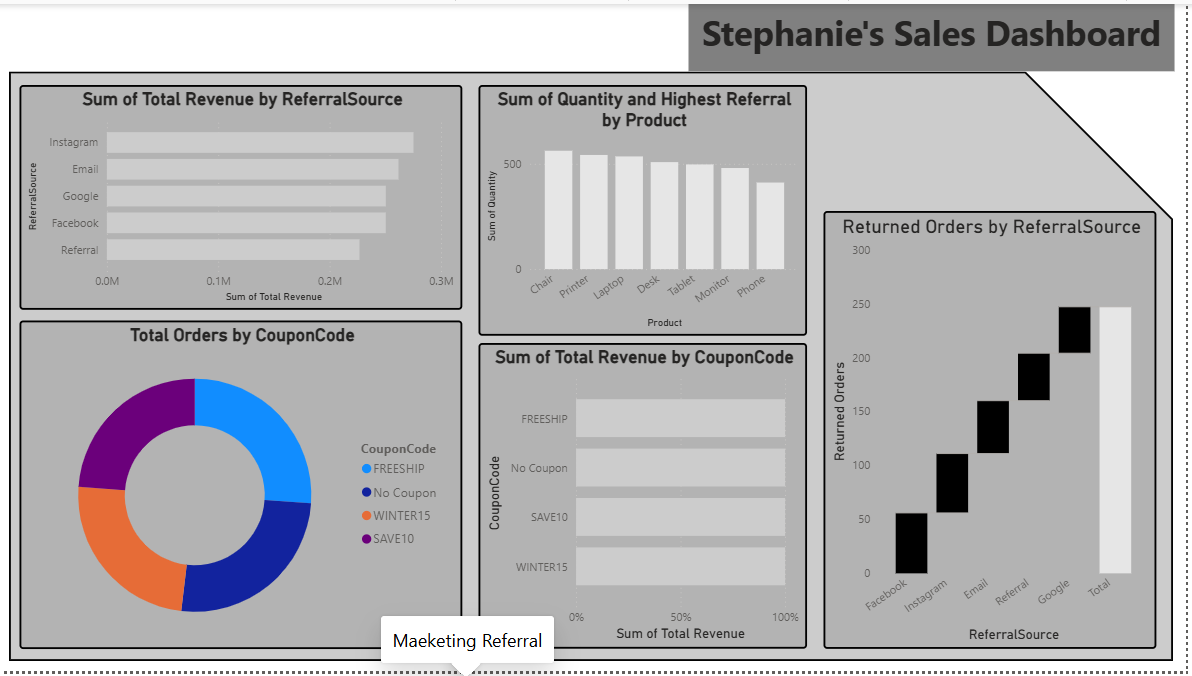

This screenshot's page, from the dashboard's own definition file:
{"tool":"powerbi","page":{"name":"Maeketing Referral","canvas":[1280,720],"ordinal":3},"visuals":[{"type":"shape","box":[9.7,72.9,1256.5,636.4],"z":0},{"type":"barChart","fields":{"Category":["Sheet.ReferralSource"],"Y":["Sum(Sheet.Total Revenue)"]},"box":[21,87.4,477.7,242.9],"z":1000},{"type":"donutChart","fields":{"Category":["Sheet.CouponCode"],"Y":["Sheet.Total Orders"]},"box":[21,341.7,477.7,354.6],"z":2000},{"type":"hundredPercentStackedBarChart","fields":{"Category":["Sheet.CouponCode"],"Y":["Sum(Sheet.Total Revenue)"]},"box":[516.5,365.9,354.6,330.3],"z":3000},{"type":"lineStackedColumnComboChart","fields":{"Category":["Sheet.Product"],"Y":["Sum(Sheet.Quantity)"]},"box":[516.5,87.4,354.6,270.4],"z":4000},{"type":"waterfallChart","fields":{"Category":["Sheet.ReferralSource"],"Y":["Sheet.Returned Orders"]},"box":[889,223.5,359.5,472.8],"z":5000},{"type":"textbox","box":[743.2,0,524.6,72.9],"z":6000}]}

Visuals, with their boxes in screenshot pixels (x1, y1, x2, y2), scaled from the page's 1280x720 canvas onto the 1192x676 screenshot:
shape: 9:68:1179:666
barChart - Sheet.ReferralSource x Sum(Sheet.Total Revenue): 20:82:464:310
donutChart - Sheet.CouponCode x Sheet.Total Orders: 20:321:464:654
hundredPercentStackedBarChart - Sheet.CouponCode x Sum(Sheet.Total Revenue): 481:344:811:654
lineStackedColumnComboChart - Sheet.Product x Sum(Sheet.Quantity): 481:82:811:336
waterfallChart - Sheet.ReferralSource x Sheet.Returned Orders: 828:210:1163:654
textbox: 692:0:1181:68
